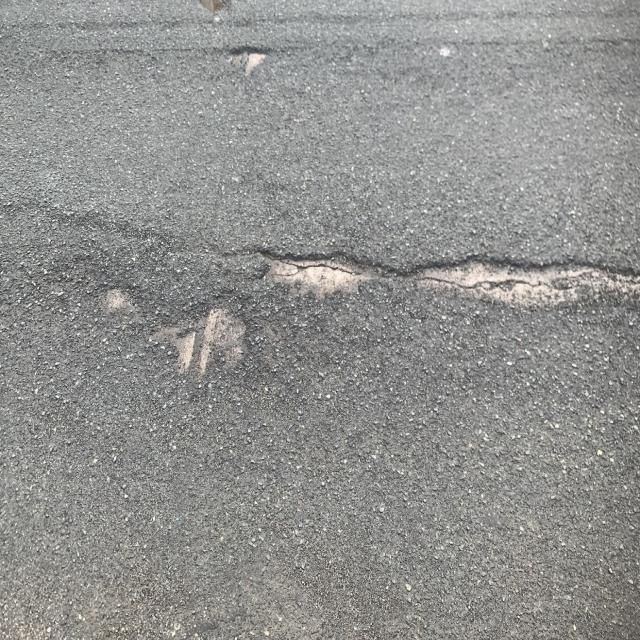pothole: (230, 188, 640, 391)
